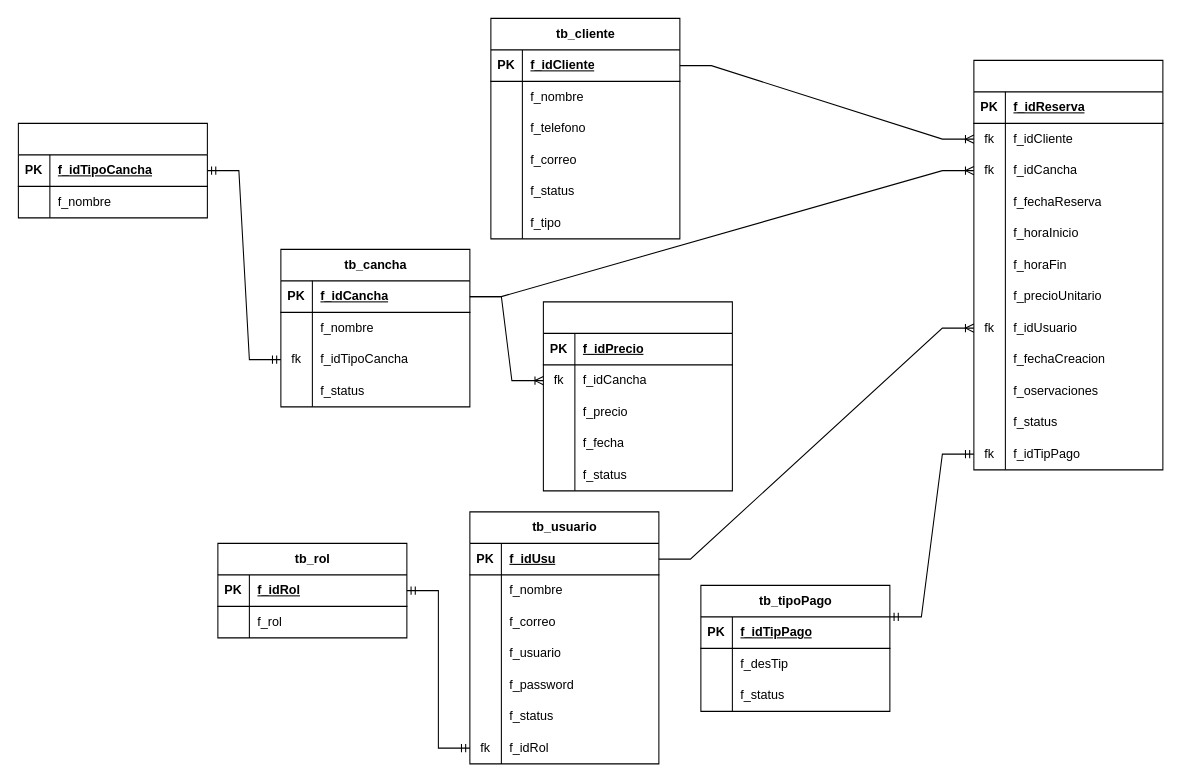
Image size: 1181x782. Some labels were removed from this diagram. The box of each missing label's shape, as (x1, y1, x2, y2) in pixels:
tb_precios_cancha: (542, 301, 732, 491)
tb_reserva: (973, 59, 1163, 470)
tb_tipoCancha: (17, 122, 207, 218)
